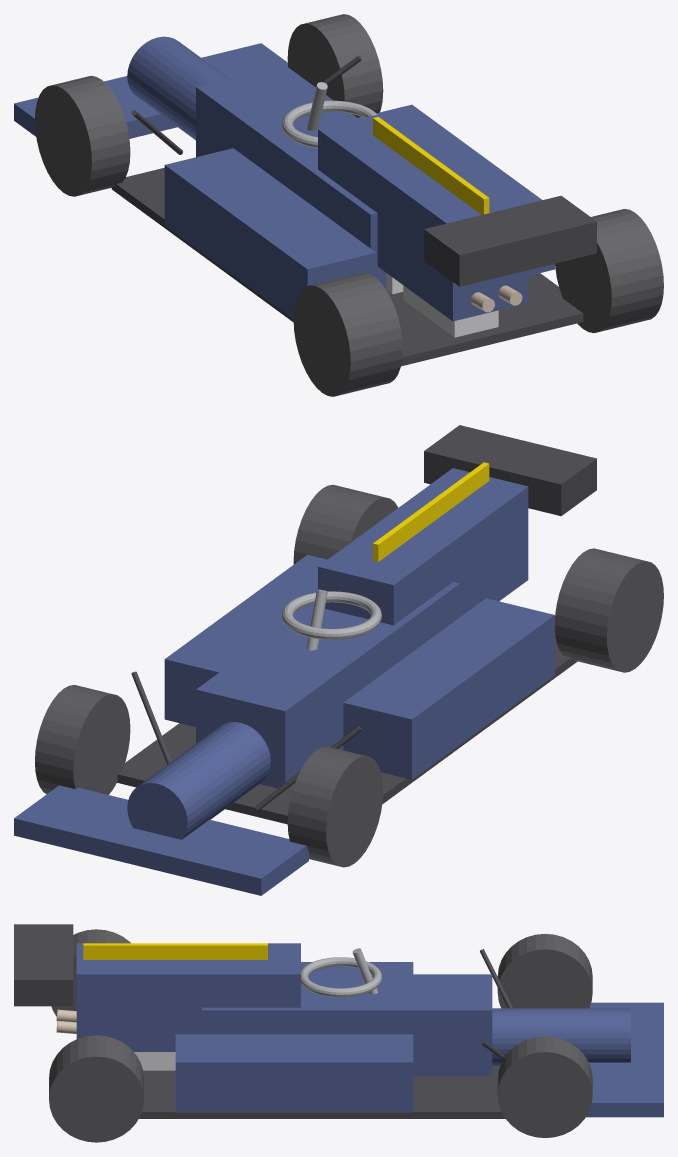
Rendered from Car_2026_F1.fbx.
3 views of the same model, one above another, from view 1: azimuth 30°, elevation 25°; view 2: azimuth 150°, elevation 25°; view 3: azimuth 270°, elevation 25° (orthographic). The views are drawn at different scales.
Visible parts, largest first — view 1: Sidepods_Assembly_LH, Engine_Cover_Assembly, Body_Monocoque_SurvivalCell, Wheels_Assembly_Rear_LH, Rear_Wing_ActiveAero, Wheels_Assembly_Front_LH, Wheels_Assembly_Rear_RH, Floor_Diffuser_Assembly, Wheels_Assembly_Front_RH, Nosecone_Tip, Front_Wing_Assembly, Sidepods_Assembly_RH (+4 smaller); view 2: Sidepods_Assembly_LH, Body_Monocoque_SurvivalCell, Engine_Cover_Assembly, Front_Wing_Assembly, Wheels_Assembly_Rear_LH, Nosecone_Tip, Wheels_Assembly_Front_LH, Sidepods_Assembly_RH, Wheels_Assembly_Front_RH, Rear_Wing_ActiveAero, Floor_Diffuser_Assembly, Wheels_Assembly_Rear_RH (+2 smaller); view 3: Sidepods_Assembly_RH, Body_Monocoque_SurvivalCell, Engine_Cover_Assembly, Wheels_Assembly_Rear_RH, Wheels_Assembly_Front_RH, Floor_Diffuser_Assembly, Front_Wing_Assembly, Wheels_Assembly_Front_LH, Nosecone_Tip, Rear_Wing_ActiveAero, Shark_Fin_Dorsal, Halo_Hoop (+5 smaller).
Boxes of the visible parts, left/top/right/bottom form: Sidepods_Assembly_LH: left=164, top=148, right=376, bottom=319; Engine_Cover_Assembly: left=318, top=111, right=528, bottom=321; Body_Monocoque_SurvivalCell: left=196, top=65, right=386, bottom=289; Wheels_Assembly_Rear_LH: left=293, top=272, right=402, bottom=396; Rear_Wing_ActiveAero: left=424, top=195, right=596, bottom=286; Wheels_Assembly_Front_LH: left=35, top=76, right=130, bottom=196; Wheels_Assembly_Rear_RH: left=555, top=209, right=663, bottom=332; Floor_Diffuser_Assembly: left=111, top=167, right=583, bottom=366; Wheels_Assembly_Front_RH: left=287, top=14, right=383, bottom=117; Nosecone_Tip: left=127, top=36, right=229, bottom=140; Front_Wing_Assembly: left=14, top=43, right=287, bottom=138; Sidepods_Assembly_RH: left=358, top=104, right=554, bottom=275; Sidepods_Assembly_LH: left=343, top=598, right=554, bottom=779; Body_Monocoque_SurvivalCell: left=196, top=582, right=459, bottom=789; Engine_Cover_Assembly: left=318, top=468, right=528, bottom=625; Front_Wing_Assembly: left=14, top=785, right=308, bottom=895; Wheels_Assembly_Rear_LH: left=555, top=548, right=663, bottom=672; Nosecone_Tip: left=127, top=722, right=270, bottom=839; Wheels_Assembly_Front_LH: left=287, top=746, right=383, bottom=867; Sidepods_Assembly_RH: left=164, top=554, right=327, bottom=726; Wheels_Assembly_Front_RH: left=35, top=685, right=130, bottom=794; Rear_Wing_ActiveAero: left=424, top=425, right=596, bottom=516; Floor_Diffuser_Assembly: left=117, top=634, right=577, bottom=824; Wheels_Assembly_Rear_RH: left=293, top=484, right=398, bottom=564; Sidepods_Assembly_RH: left=175, top=1034, right=413, bottom=1112; Body_Monocoque_SurvivalCell: left=202, top=974, right=492, bottom=1076; Engine_Cover_Assembly: left=76, top=943, right=300, bottom=1051; Wheels_Assembly_Rear_RH: left=49, top=1035, right=143, bottom=1142; Wheels_Assembly_Front_RH: left=497, top=1036, right=592, bottom=1137; Floor_Diffuser_Assembly: left=139, top=1066, right=505, bottom=1118; Front_Wing_Assembly: left=586, top=1002, right=663, bottom=1117; Wheels_Assembly_Front_LH: left=497, top=933, right=592, bottom=1008; Nosecone_Tip: left=492, top=1008, right=630, bottom=1066; Rear_Wing_ActiveAero: left=14, top=924, right=73, bottom=1006; Shark_Fin_Dorsal: left=83, top=943, right=267, bottom=959; Halo_Hoop: left=301, top=957, right=382, bottom=997.
Size of the model in its own units: 2.28 by 1.13 by 4.92.
